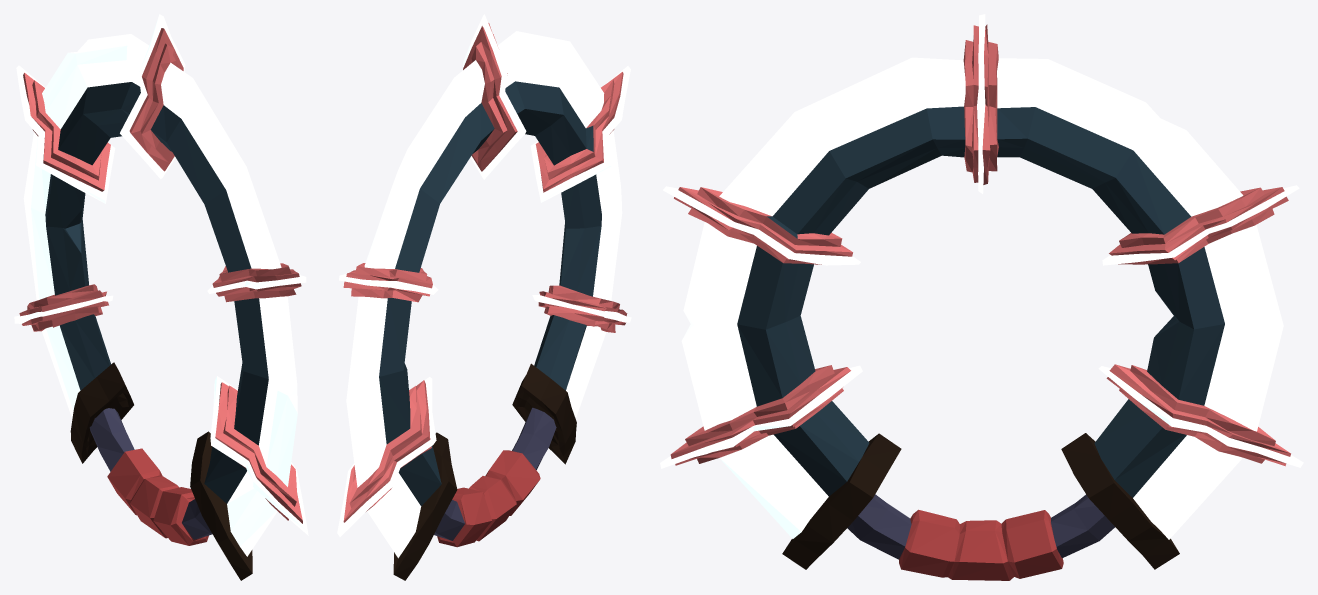
File: SFFA_Weapon_Chakram_Runical_003.fbx
3 renders of one model, left to right at view 1: azimuth 30°, elevation 25°; view 2: azimuth 150°, elevation 25°; view 3: azimuth 270°, elevation 25°, orthographic. The views are drawn at different scales.
Visible parts, largest first — view 1: SFFA_Weapon_Chakram_Runical_003; view 2: SFFA_Weapon_Chakram_Runical_003; view 3: SFFA_Weapon_Chakram_Runical_003.
Part boxes in pixels (x1,y1,x2,y2): SFFA_Weapon_Chakram_Runical_003: (14, 14, 308, 580); SFFA_Weapon_Chakram_Runical_003: (337, 14, 631, 580); SFFA_Weapon_Chakram_Runical_003: (660, 14, 1303, 580).
Bounding box in the file's own units: 4.93 × 29.58 × 30.65.
